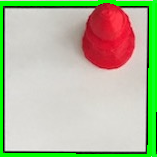Red Bishop: (79, 1, 136, 71)
